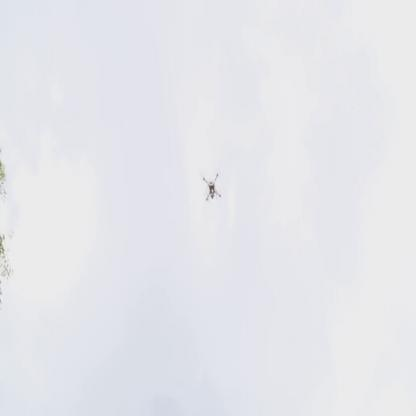drone: (199, 169, 224, 203)
